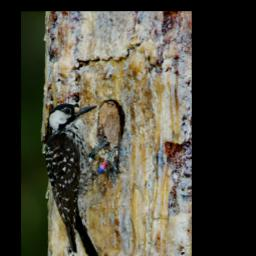Woodpecker: (43, 103, 118, 256)
